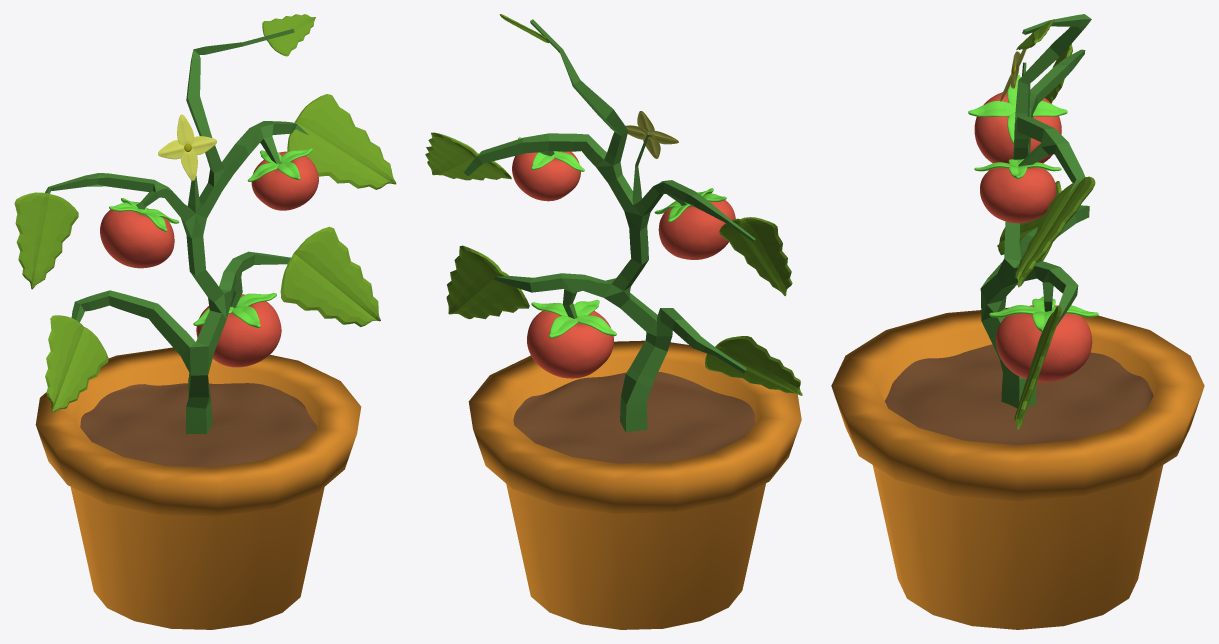
Rendered from Tomato.fbx.
The picture shows the model from 3 angles, left to right: view 1: azimuth 30°, elevation 25°; view 2: azimuth 150°, elevation 25°; view 3: azimuth 270°, elevation 25°; orthographic projection. The views are drawn at different scales.
Visible parts, largest first — view 1: Plane.008, Plane.005, Plane, Circle, Icosphere.002, Icosphere.003, Icosphere.001, Plane.006, Plane.003, Plane.007, Plane.004; view 2: Plane.008, Plane, Circle, Plane.005, Icosphere.003, Icosphere.002, Icosphere.001, Plane.007, Plane.006, Plane.003, Plane.004; view 3: Plane.008, Circle, Plane, Plane.005, Icosphere.003, Icosphere.001, Icosphere.002, Plane.004, Plane.007, Plane.003.
Boxes of the visible parts, bbox=[...] form: Plane.008: bbox=[35, 347, 361, 629]; Plane.005: bbox=[14, 14, 396, 413]; Plane: bbox=[45, 29, 308, 433]; Circle: bbox=[80, 383, 316, 467]; Icosphere.002: bbox=[100, 208, 174, 268]; Icosphere.003: bbox=[196, 294, 281, 367]; Icosphere.001: bbox=[251, 151, 318, 210]; Plane.006: bbox=[158, 114, 216, 180]; Plane.003: bbox=[247, 148, 312, 181]; Plane.007: bbox=[193, 293, 276, 327]; Plane.004: bbox=[109, 198, 179, 231]; Plane.008: bbox=[468, 340, 801, 629]; Plane: bbox=[464, 19, 755, 432]; Circle: bbox=[513, 371, 754, 463]; Plane.005: bbox=[425, 14, 802, 395]; Icosphere.003: bbox=[527, 304, 613, 378]; Icosphere.002: bbox=[658, 194, 735, 259]; Icosphere.001: bbox=[512, 151, 580, 201]; Plane.007: bbox=[531, 299, 616, 338]; Plane.006: bbox=[625, 111, 678, 158]; Plane.003: bbox=[518, 137, 584, 171]; Plane.004: bbox=[654, 188, 726, 222]; Plane.008: bbox=[831, 307, 1204, 629]; Circle: bbox=[885, 344, 1153, 445]; Plane: bbox=[980, 14, 1091, 408]; Plane.005: bbox=[997, 19, 1095, 429]; Icosphere.003: bbox=[996, 305, 1092, 382]; Icosphere.001: bbox=[980, 167, 1056, 223]; Icosphere.002: bbox=[974, 91, 1061, 163]; Plane.004: bbox=[968, 75, 1067, 144]; Plane.007: bbox=[989, 296, 1098, 332]; Plane.003: bbox=[974, 159, 1061, 178].
Size of the model in its own units: 29.08 by 40.78 by 22.67.
